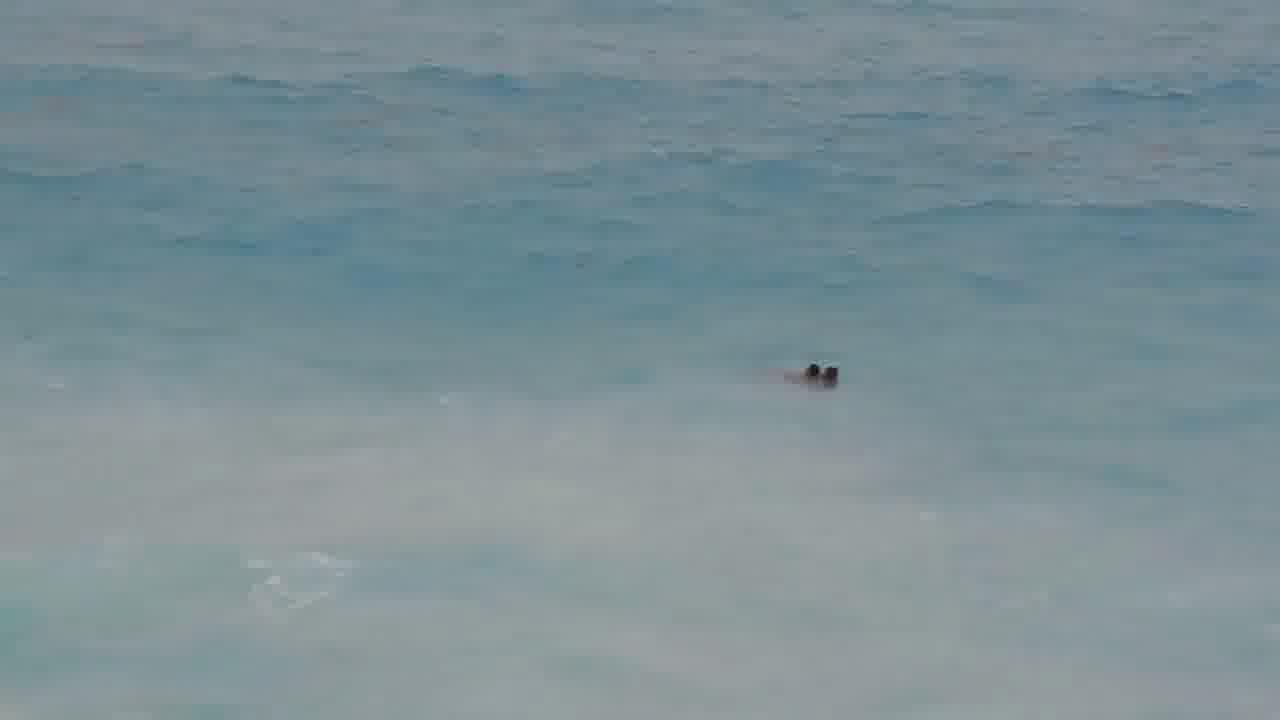human: (797, 351, 854, 393)
